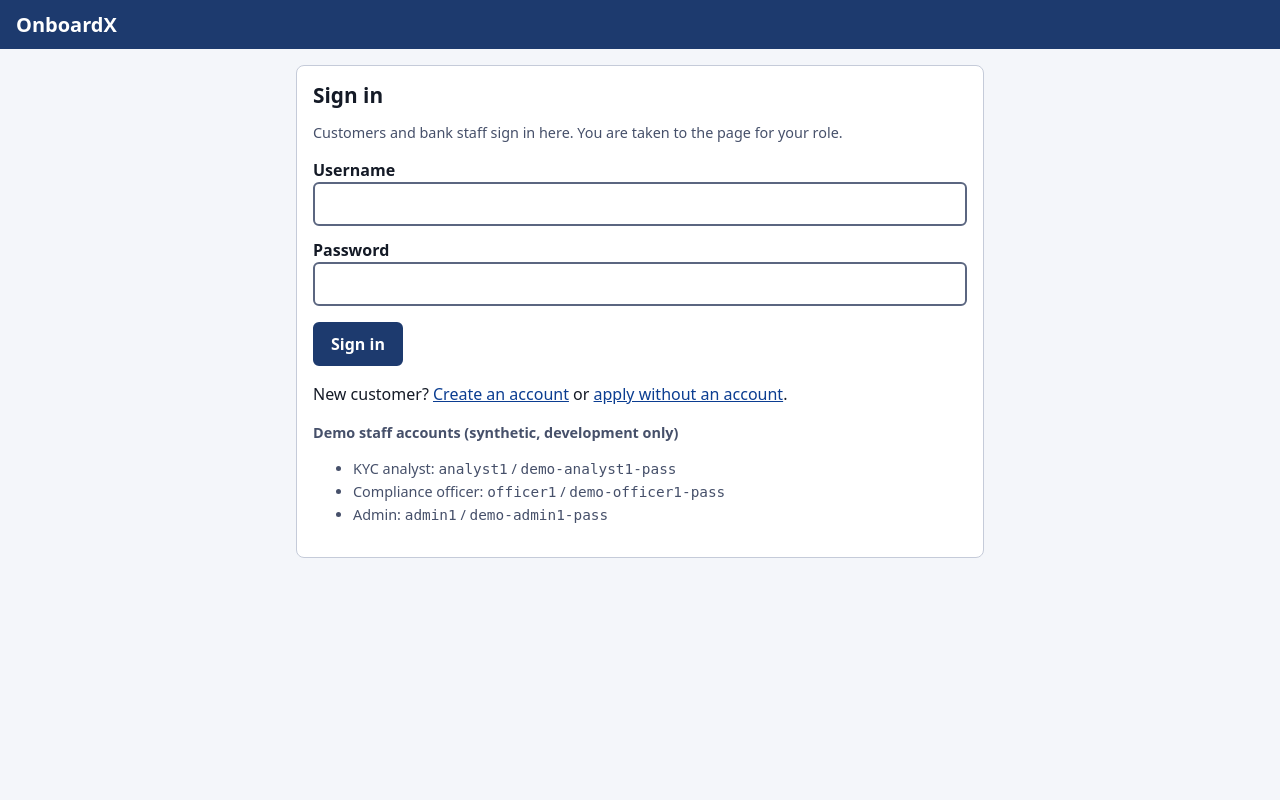
LoginPage › NFR-04: shows a generic error for wrong credentials
Type "analyst1" into the field labelled "Username". click: (640, 204)
box: [313,182,967,226]
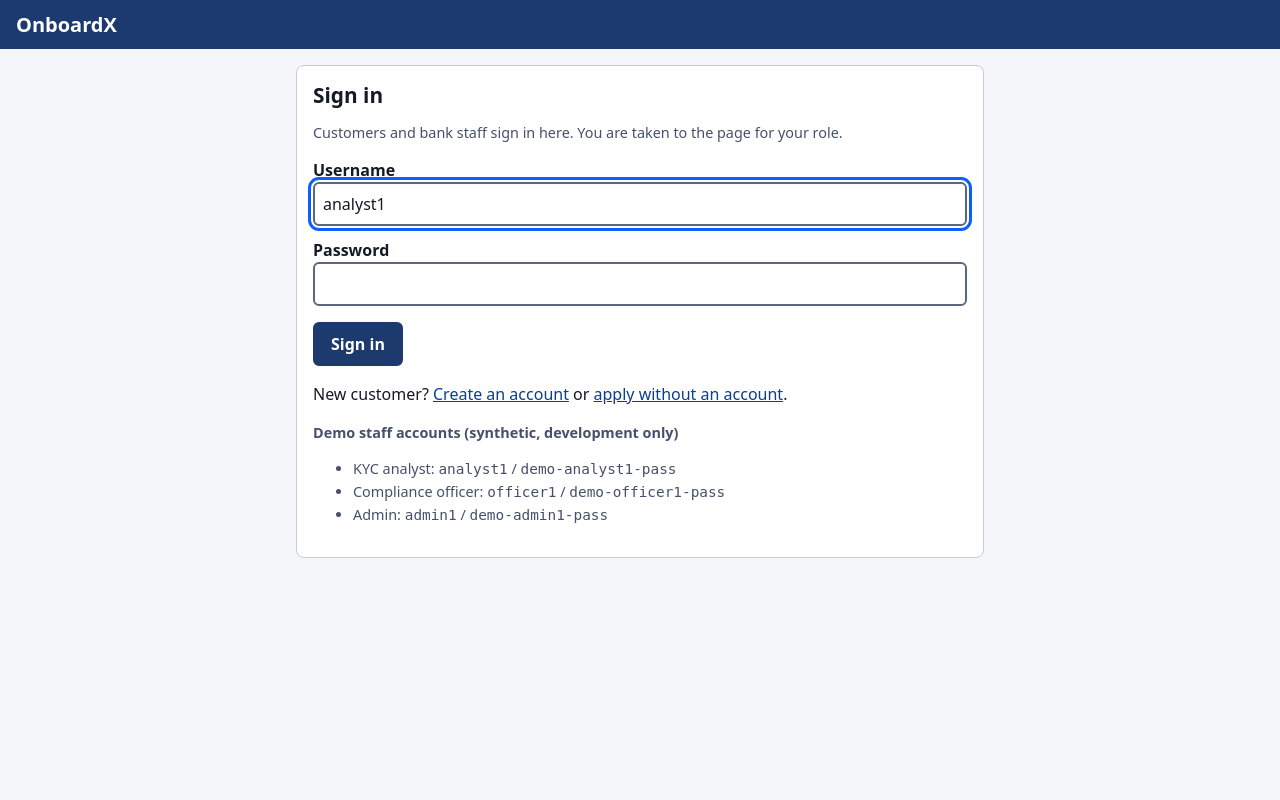
Type "wrong" into the password field labelled "Password". click: (640, 284)
box: [313,262,967,306]
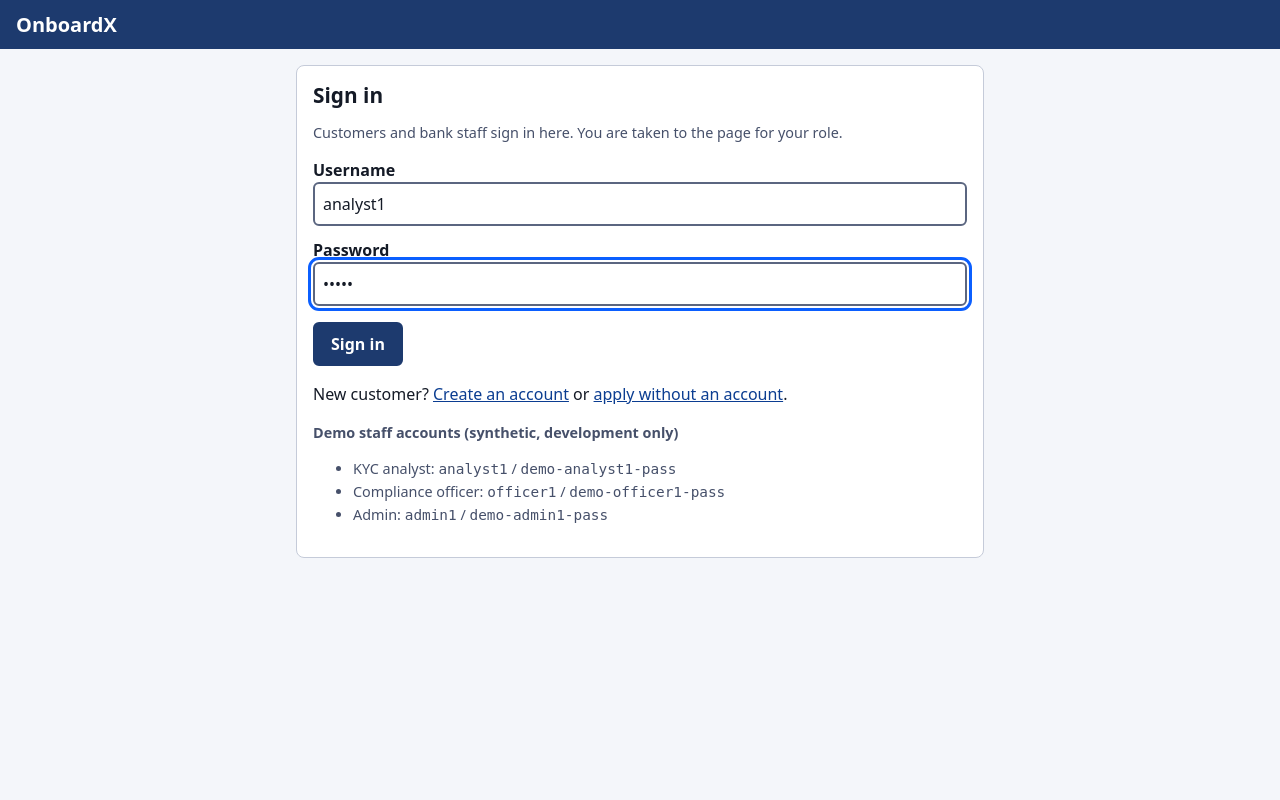
Click the button "Sign in". click: (358, 344)
box: [313,322,403,366]
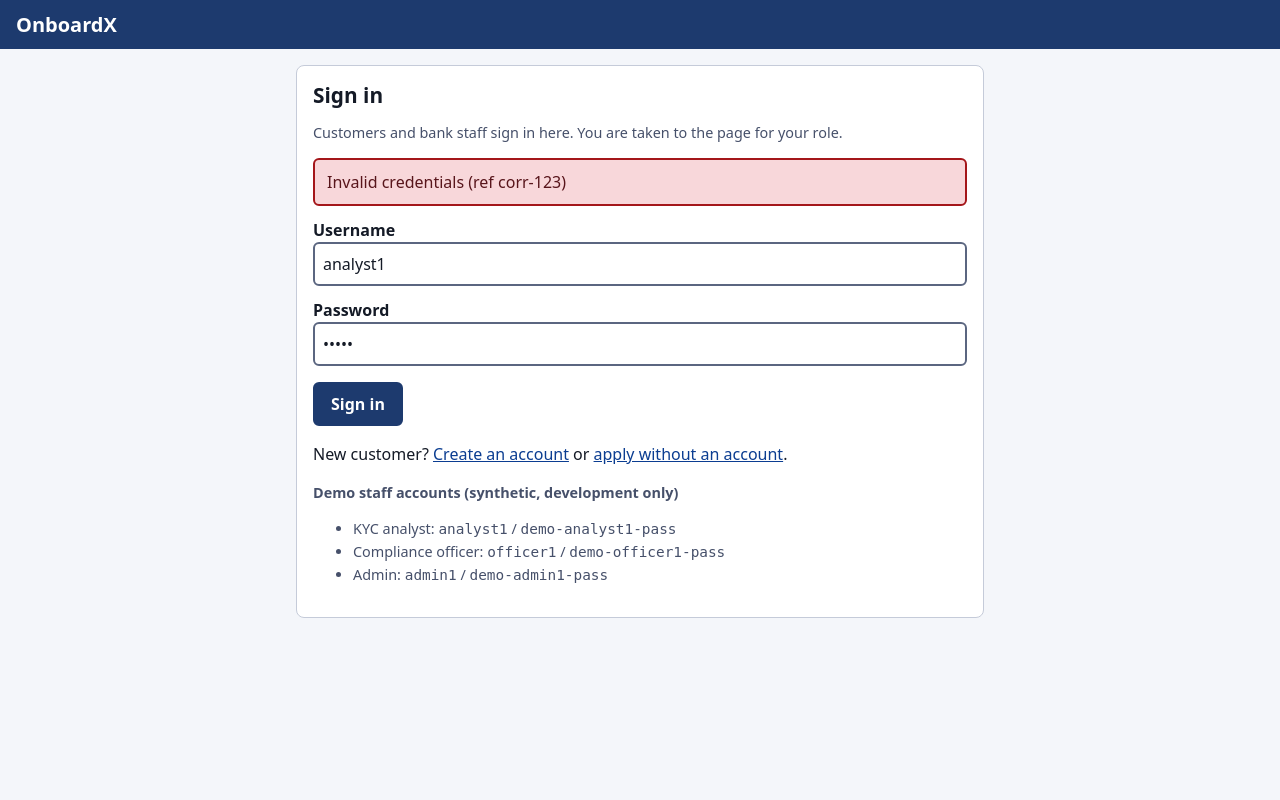
Expected: the message shows "Invalid credentials", [327,171,566,193]
